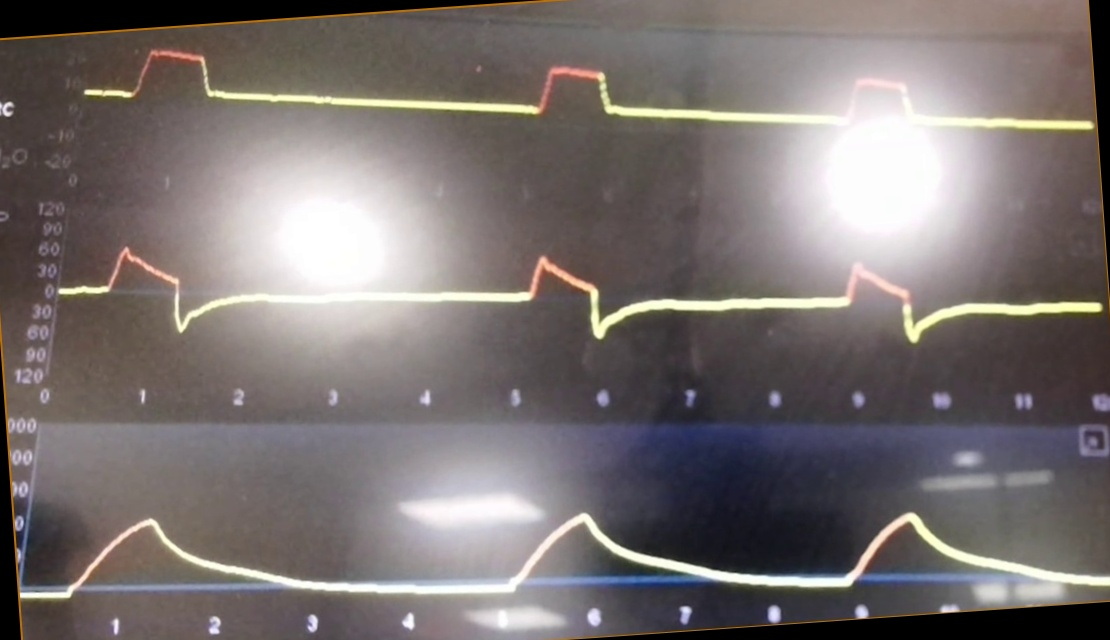Normal Flow: (65, 207, 1104, 374)
Normal Volume: (26, 483, 1110, 600)
